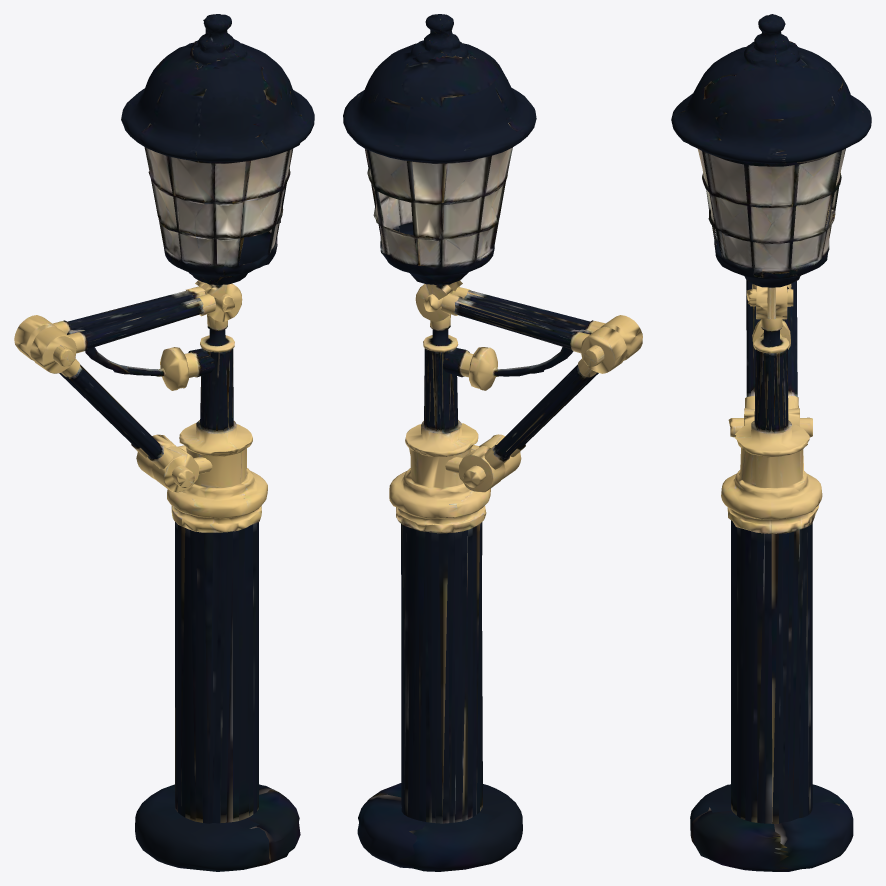
File: street_lantern.glb
3 views of the same model, side by side, from view 1: azimuth 30°, elevation 25°; view 2: azimuth 150°, elevation 25°; view 3: azimuth 270°, elevation 25° (orthographic).
Visible parts, largest first — view 1: prop; view 2: prop; view 3: prop.
Boxes of the visible parts, x1,y1,x2,y2 form: prop: [14, 14, 314, 871]; prop: [343, 14, 642, 871]; prop: [671, 14, 871, 871].
Size of the model in its own units: 1.11 by 3.2 by 0.7039.
1 material, 1 textured.
